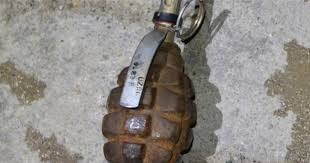e1: (101, 2, 206, 163)
